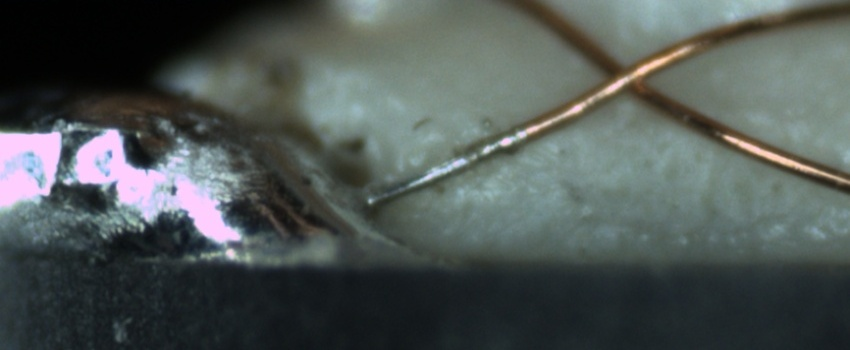CL: (576, 39, 675, 111)
TS: (358, 127, 524, 206)
